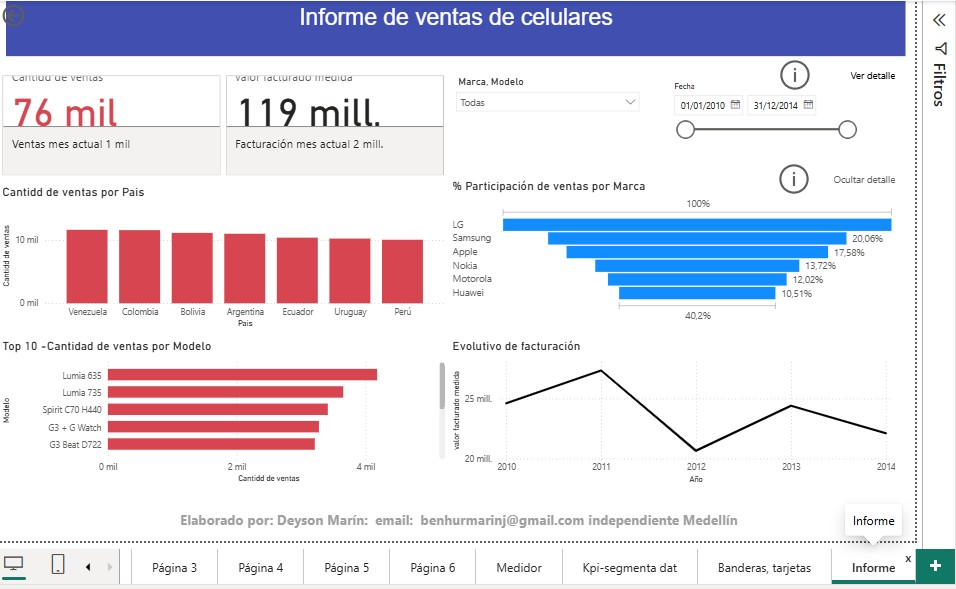

The dashboard page shown, as its layout file describes it:
{"tool":"powerbi","page":{"name":"Informe ","canvas":[1280,754],"ordinal":9},"visuals":[{"type":"textbox","box":[10.1,0,1256.5,77.3],"z":0},{"type":"cardVisual","fields":{"Data":["Factura.Cantidd de ventas","Factura.valor facturado medida"]},"box":[0,99,627.8,149.3],"z":1000},{"type":"columnChart","fields":{"Y":["Factura.Cantidd de ventas"],"Category":["País.Pais"]},"box":[0,257.5,627.8,204.2],"z":2000},{"type":"funnel","fields":{"Category":["Marca.DescripciónMarca"],"Y":["Factura.Cantidd de ventas"]},"box":[627.8,248.4,627.8,204.2],"z":3000},{"type":"barChart","title":"Top 10 -Cantidad de ventas por Modelo","fields":{"Y":["Factura.Cantidd de ventas"],"Category":["Modelo.DescripciónModelo"]},"box":[0,472.4,627.8,205.7],"z":4000},{"type":"lineChart","title":"Evolutivo de facturación","fields":{"Y":["Factura.valor facturado medida"],"Category":["Calendario.Date.Variación.Jerarquía de fechas.Año","Calendario.Date.Variación.Jerarquía de fechas.Trimestre","Calendario.Date.Variación.Jerarquía de fechas.Mes","Calendario.Date.Variación.Jerarquía de fechas.Día"]},"box":[628,472,628,206],"z":5000},{"type":"slicer","fields":{"Values":["Marca.DescripciónMarca","Modelo.DescripciónModelo"]},"box":[627.8,99,275.8,149.3],"z":6000},{"type":"slicer","fields":{"Values":["Calendario.Date"]},"box":[929.5,108.2,275.8,149.3],"z":7000},{"type":"actionButton","box":[0,0,175.9,40.5],"z":8000},{"type":"actionButton","box":[1084.9,76.8,170.3,53.1],"z":9000},{"type":"actionButton","box":[1083.5,222,171.7,53.1],"z":10000},{"type":"textbox","box":[36.3,706.5,1219,47.5],"z":12000}]}

Visuals, with their boxes on the page's 1280x754 design canvas (x1, y1, x2, y2). These are canvas units, not pixel positions in the 956x589 screenshot, which may show the page scaled, cropped or inside an application window:
textbox: bbox(10, 0, 1267, 77)
cardVisual - Factura.Cantidd de ventas x Factura.valor facturado medida: bbox(0, 99, 628, 248)
columnChart - Factura.Cantidd de ventas x País.Pais: bbox(0, 258, 628, 462)
funnel - Marca.DescripciónMarca x Factura.Cantidd de ventas: bbox(628, 248, 1256, 453)
"Top 10 -Cantidad de ventas por Modelo" barChart: bbox(0, 472, 628, 678)
"Evolutivo de facturación" lineChart: bbox(628, 472, 1256, 678)
slicer - Marca.DescripciónMarca x Modelo.DescripciónModelo: bbox(628, 99, 904, 248)
slicer - Calendario.Date: bbox(930, 108, 1205, 258)
actionButton: bbox(0, 0, 176, 40)
actionButton: bbox(1085, 77, 1255, 130)
actionButton: bbox(1084, 222, 1255, 275)
textbox: bbox(36, 706, 1255, 754)
